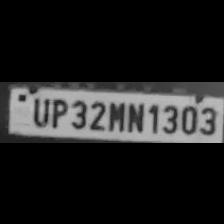0: (178, 102, 198, 134)
1: (144, 101, 160, 133)
2: (88, 97, 106, 129)
3: (196, 102, 218, 134), (67, 96, 87, 128), (160, 100, 178, 134)
M: (106, 98, 126, 132)
N: (125, 99, 145, 134)
P: (47, 95, 67, 127)
U: (28, 94, 48, 126)
